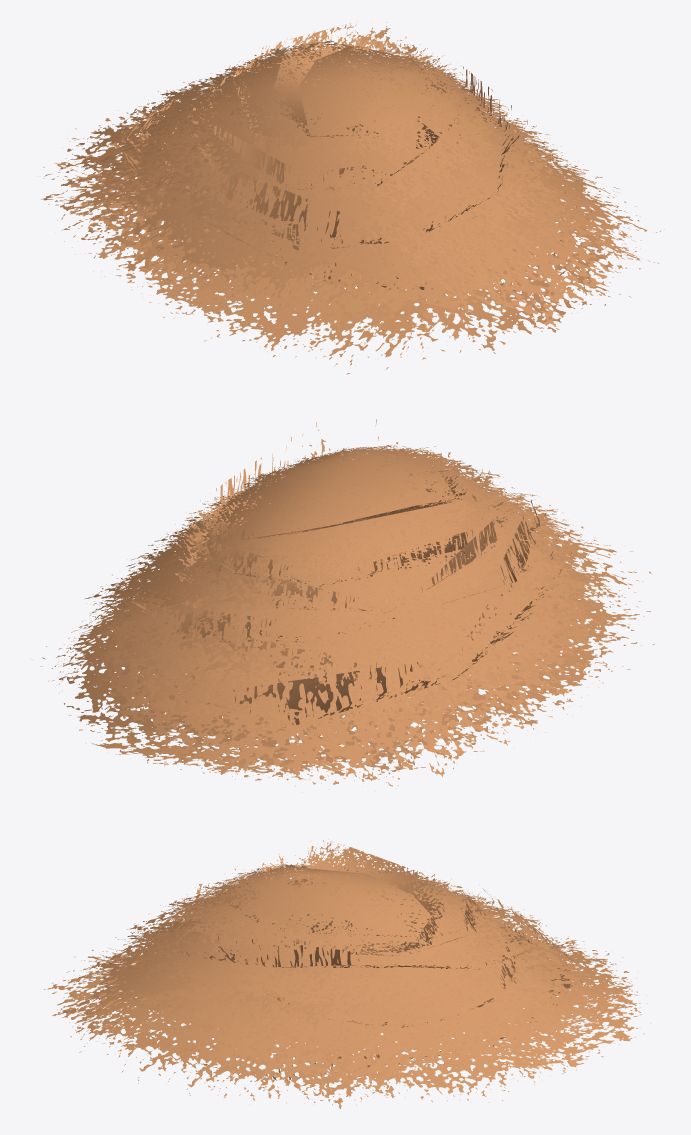
Rendered from haystackV2.glb.
3 views of the same model, one above another, from view 1: azimuth 30°, elevation 25°; view 2: azimuth 150°, elevation 25°; view 3: azimuth 270°, elevation 25° (orthographic). The views are drawn at different scales.
Visible parts, largest first — view 1: defaultMaterial; view 2: defaultMaterial; view 3: defaultMaterial.
Part boxes in pixels (bbox=[...]): defaultMaterial: bbox=[41, 21, 664, 374]; defaultMaterial: bbox=[40, 419, 655, 792]; defaultMaterial: bbox=[43, 839, 650, 1108].
Size of the model in its own units: 0.4609 by 0.1542 by 0.6.
1 material, 1 textured.
